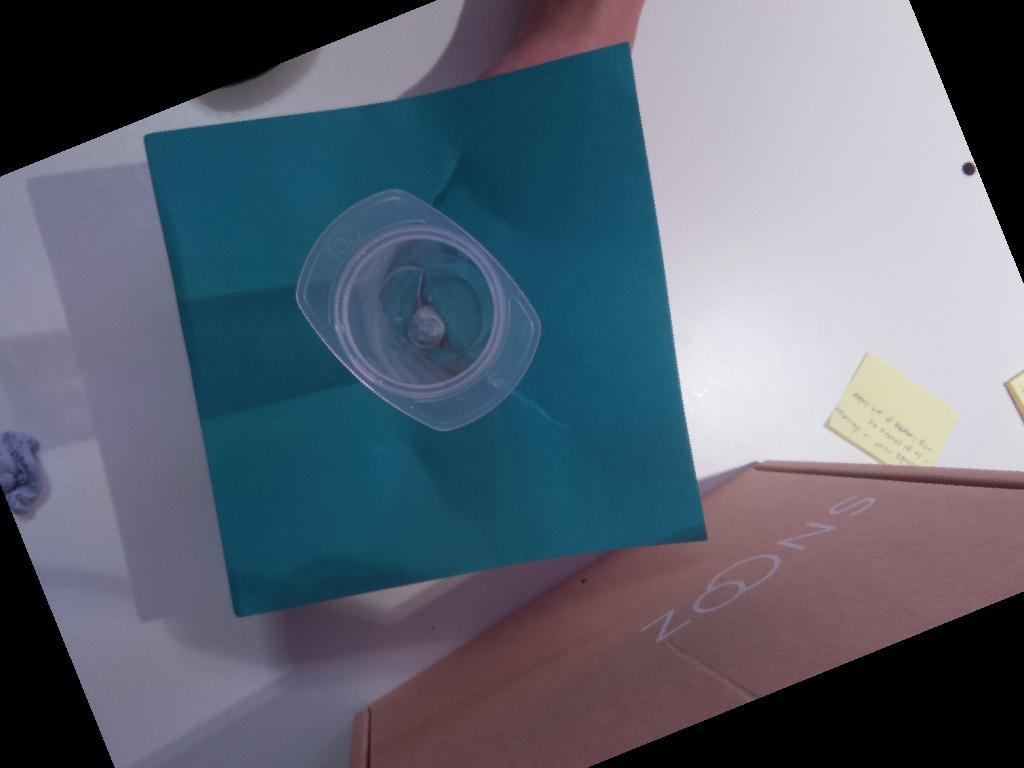clean: (289, 182, 550, 439)
